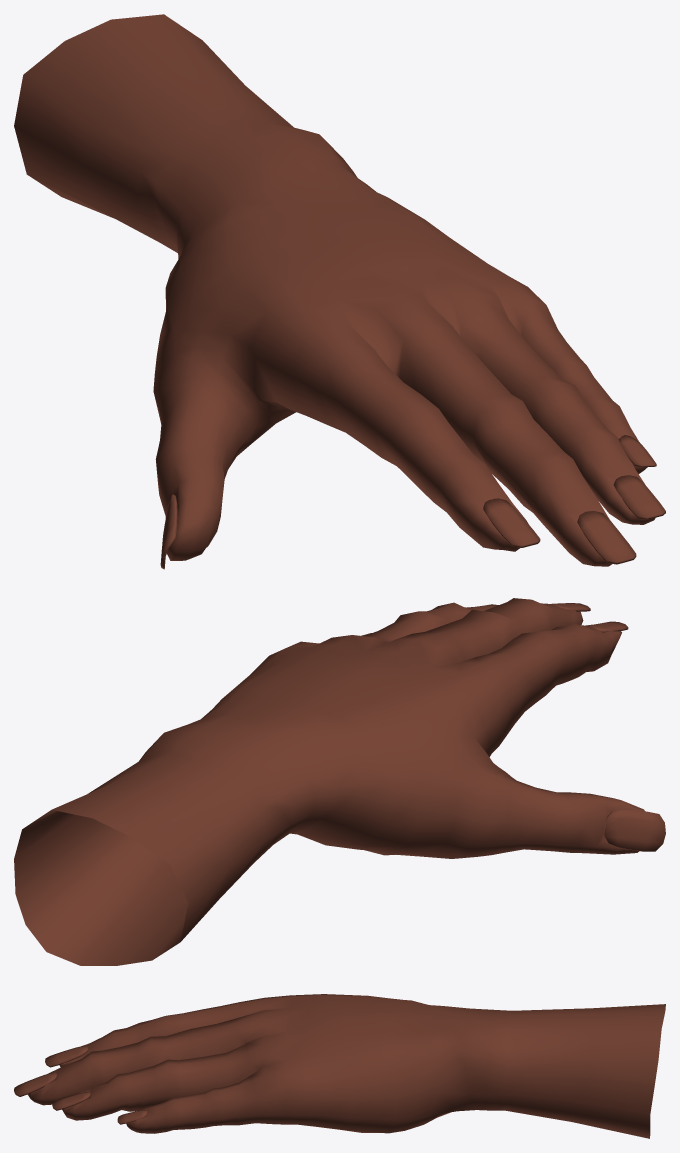
The model's file is 3_2_HandSmoothLeftBack.obj.
3 views of the same model, one above another, from view 1: azimuth 30°, elevation 25°; view 2: azimuth 150°, elevation 25°; view 3: azimuth 270°, elevation 25° (orthographic). The views are drawn at different scales.
Parts seen in each view (by area): view 1: hand_femme_rachel_polySurface1130; view 2: hand_femme_rachel_polySurface1130; view 3: hand_femme_rachel_polySurface1130.
Part boxes in pixels (x1,y1,x2,y2): hand_femme_rachel_polySurface1130: [14, 14, 665, 569]; hand_femme_rachel_polySurface1130: [14, 598, 665, 965]; hand_femme_rachel_polySurface1130: [14, 994, 665, 1138].
Bounding box in the file's own units: 0.0793 × 0.0399 × 0.1742.
